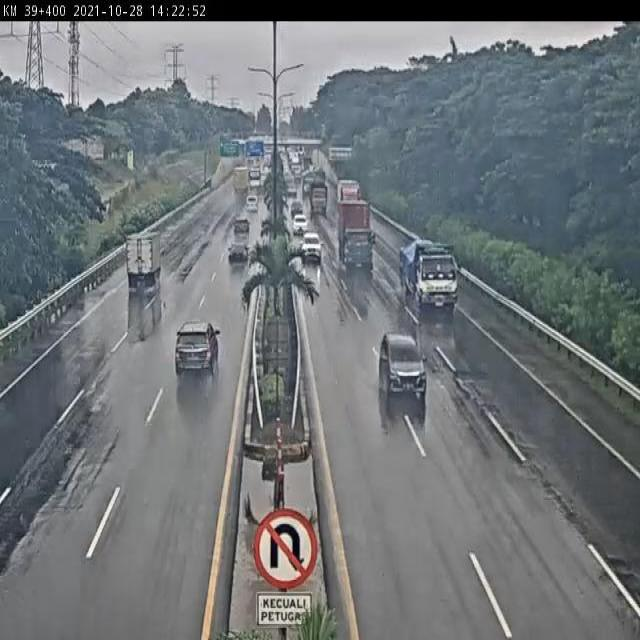car: (377, 331, 429, 400), (174, 320, 220, 376), (299, 232, 325, 264), (229, 240, 250, 267), (292, 215, 310, 237)
truck-l-: (399, 240, 464, 313)
truck-m-: (125, 231, 166, 289)
truck-xl-: (339, 200, 375, 273)
